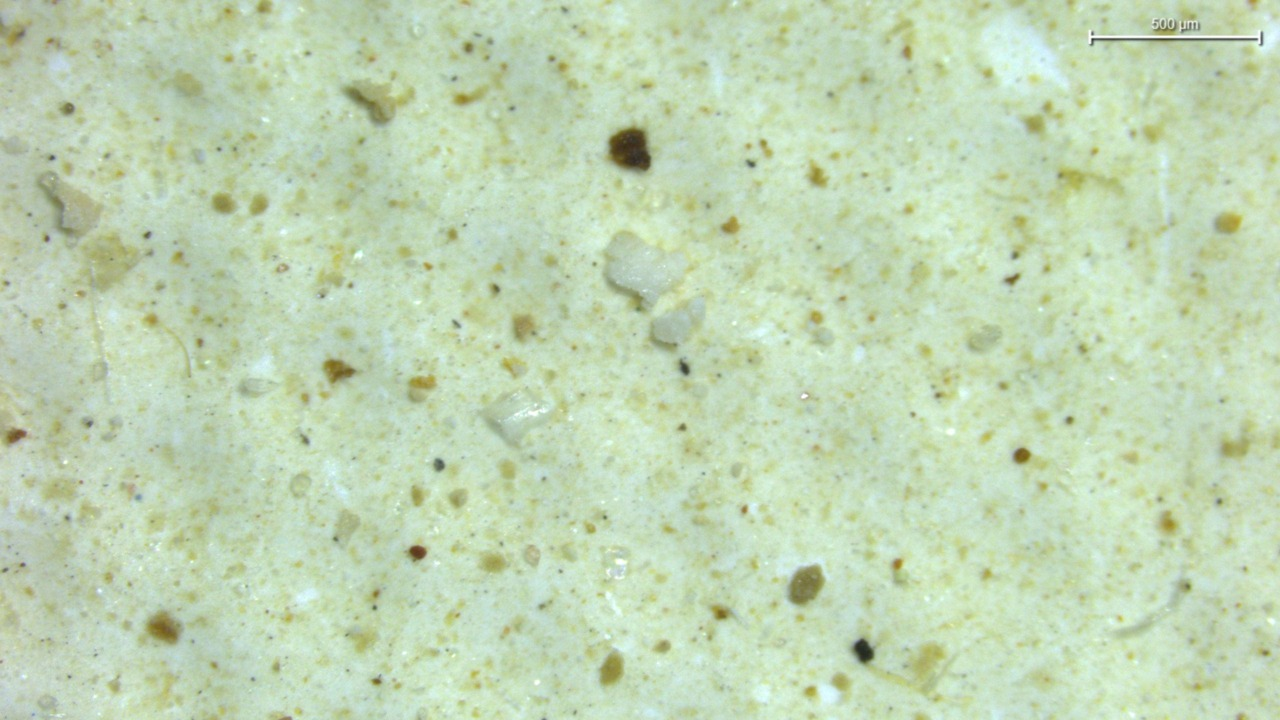microplastic_fragment: (605, 232, 686, 308), (482, 390, 553, 446), (39, 172, 102, 235), (652, 298, 704, 345)
